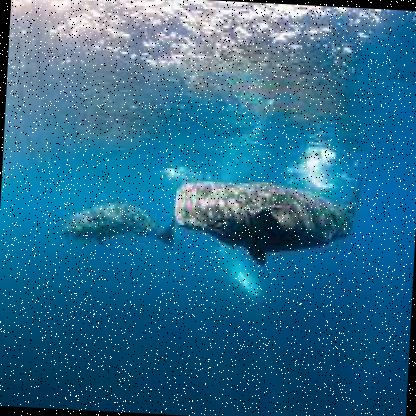sperm_whale: (164, 152, 366, 314), (18, 172, 175, 280)
